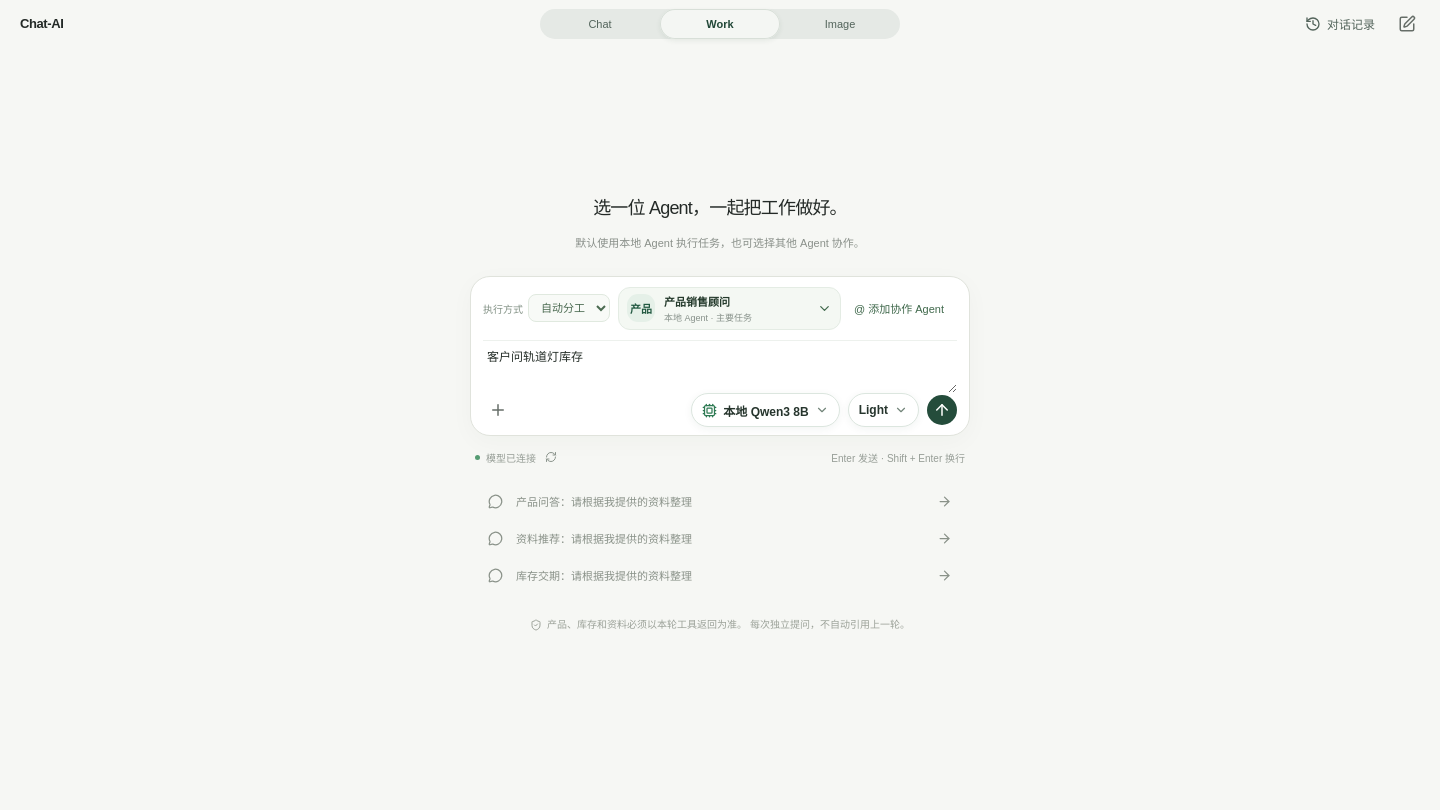
Test case: Agent workspace › saves real completed member replies when the final answer is empty and restores them from history
The width and height of the screenshot is (1440, 810).
Click the button named "发送问题".
click(942, 410)  # box [927,395,957,425]
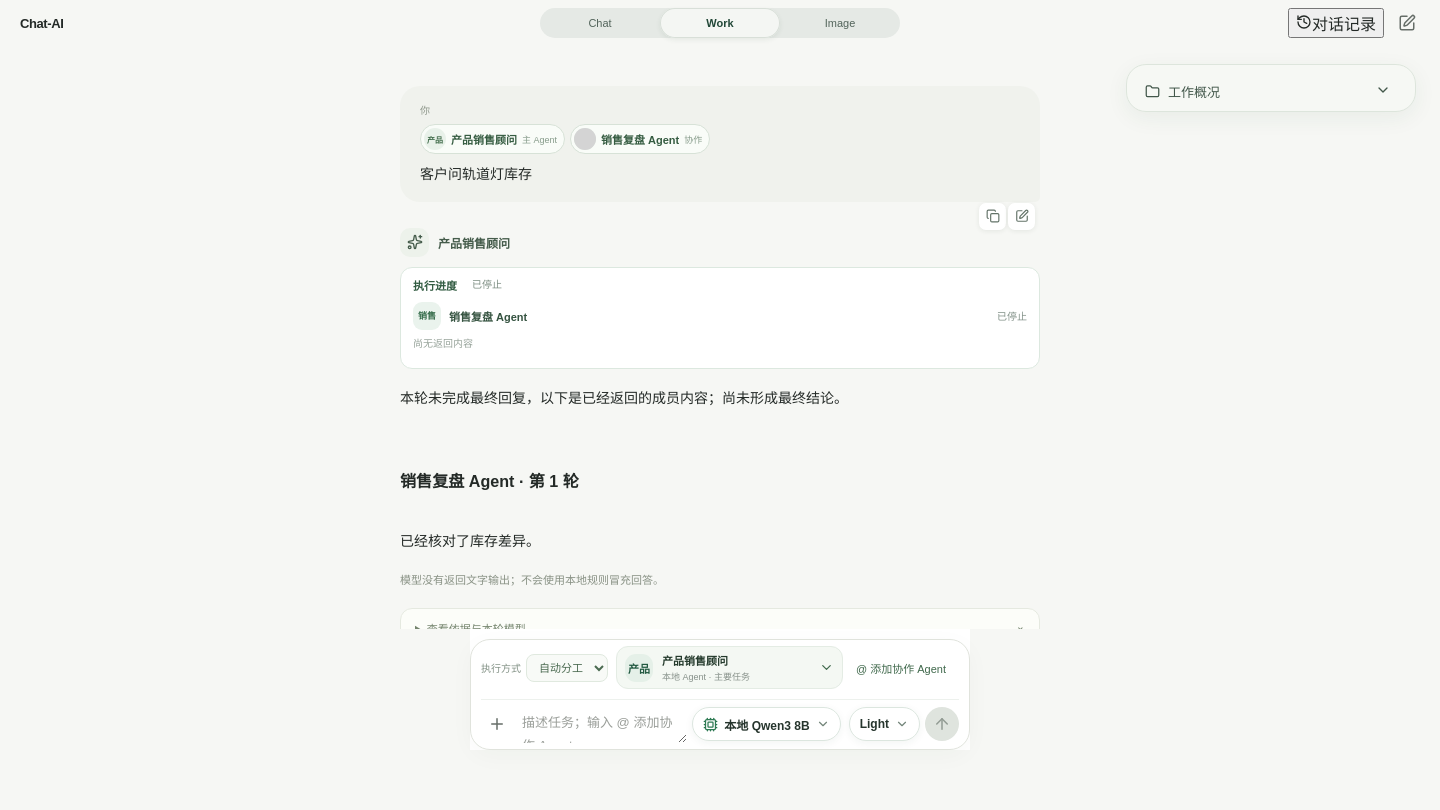
Result: the element with test id "agent-output" shows "已经核对了库存差异。" at [400,533,540,549]
Click the button named "新问题".
click(1406, 23)  # box [1392,9,1420,37]
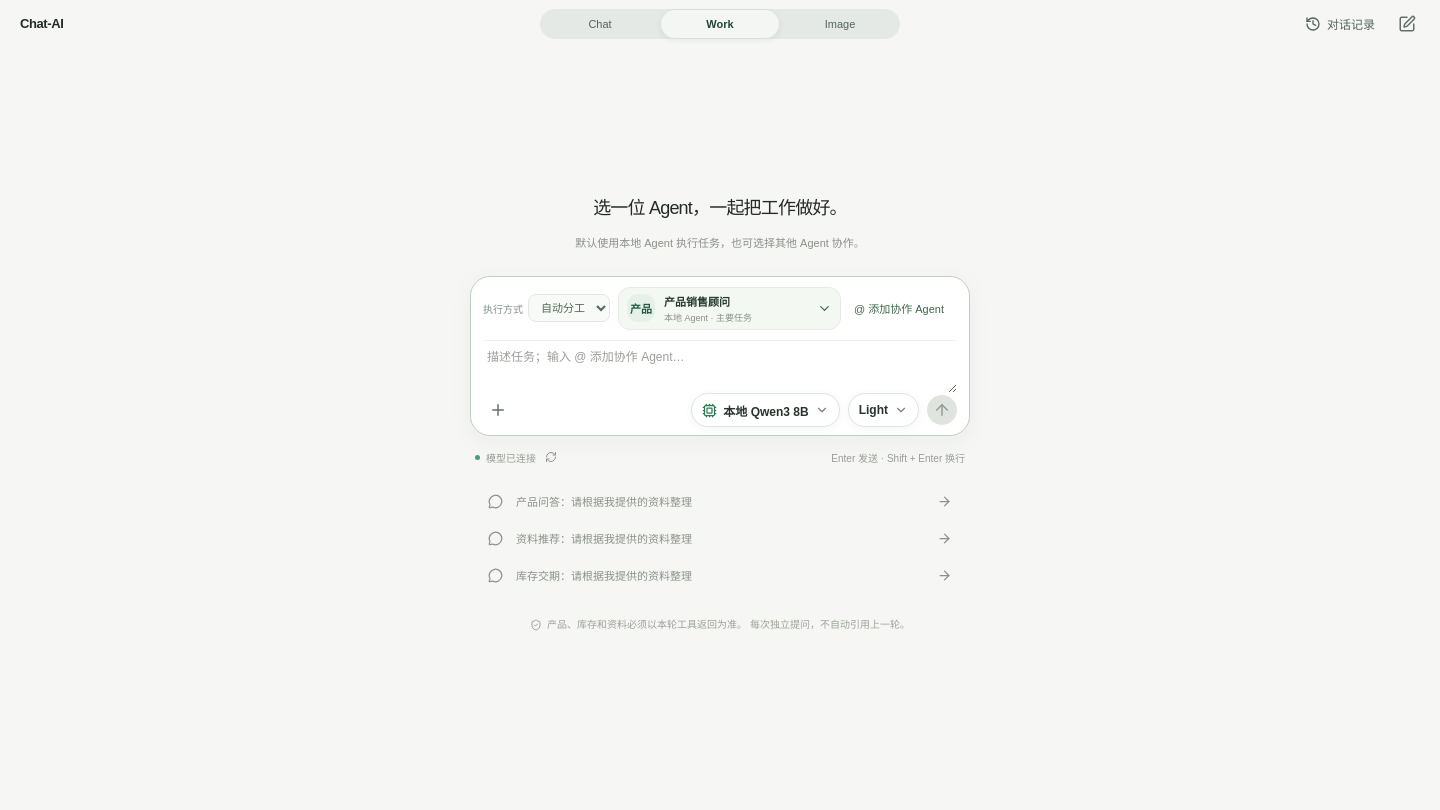
Click the button "对话记录".
click(1340, 24)  # box [1296,8,1384,39]
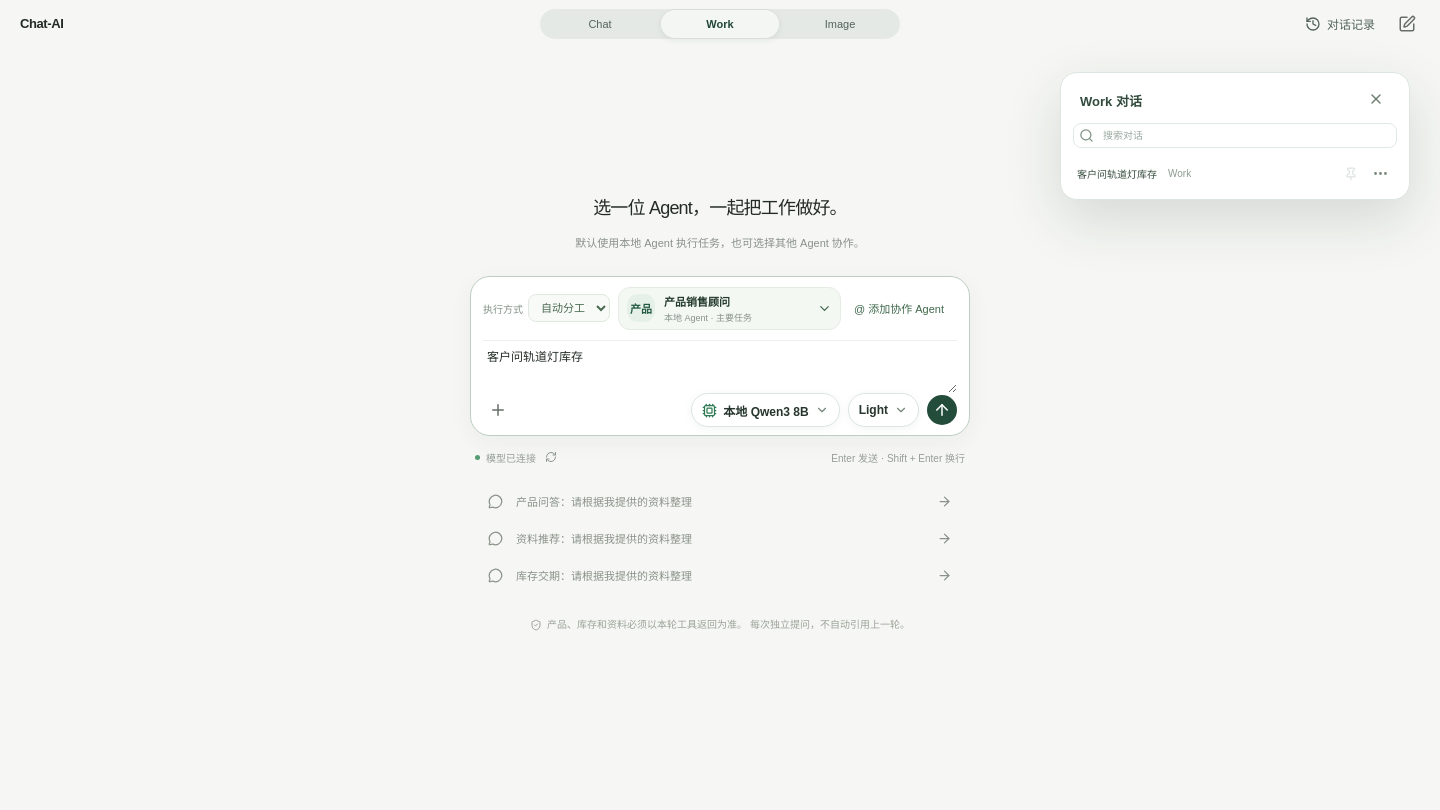
Click the button "客户问轨道灯库存 Work".
click(1117, 174)  # box [1071,160,1337,187]
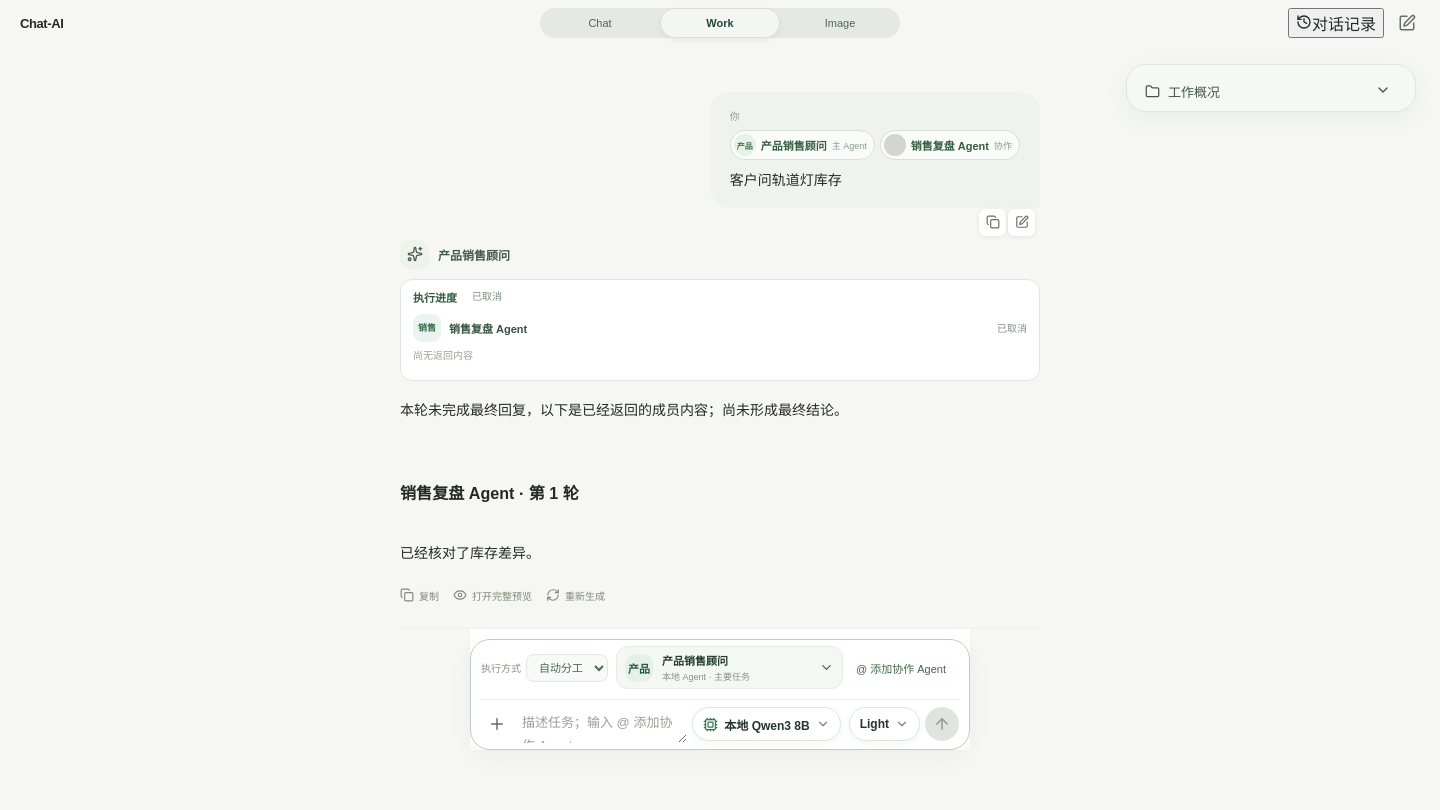
Result: the element with test id "agent-output" shows "未完成最终回复" at [400,402,848,418]
Result: the element with test id "agent-output" shows "已经核对了库存差异。" at [400,545,540,561]
